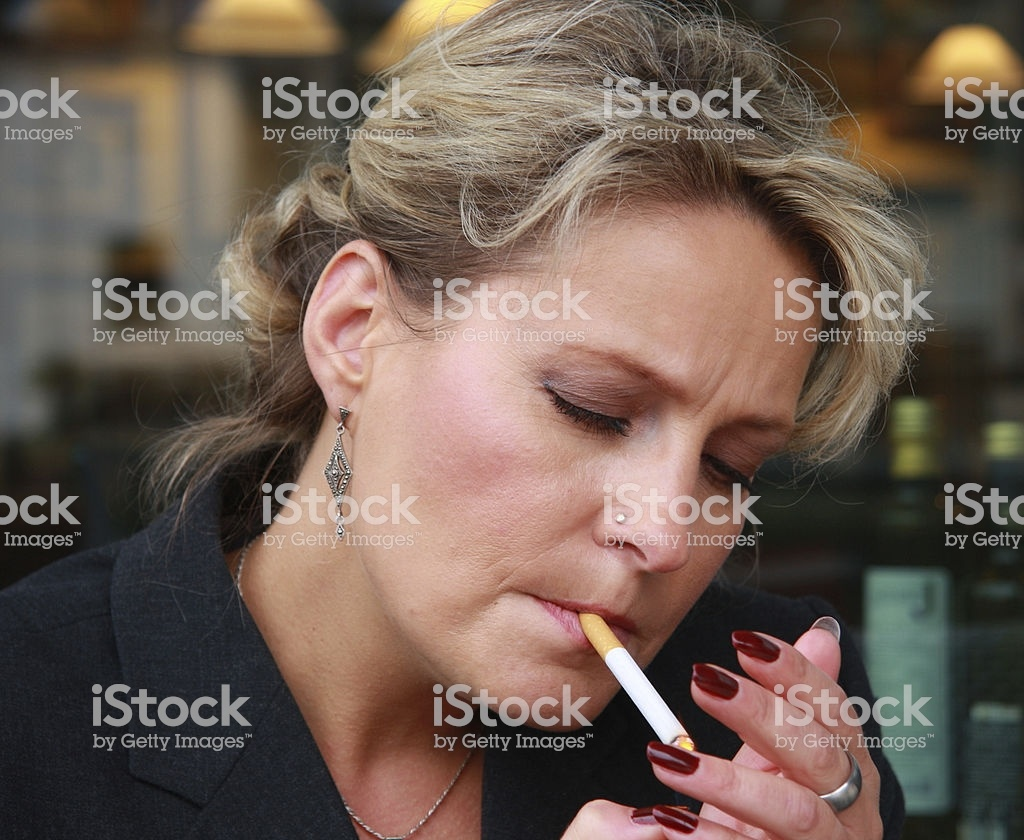sigaretta: (580, 606, 697, 761)
